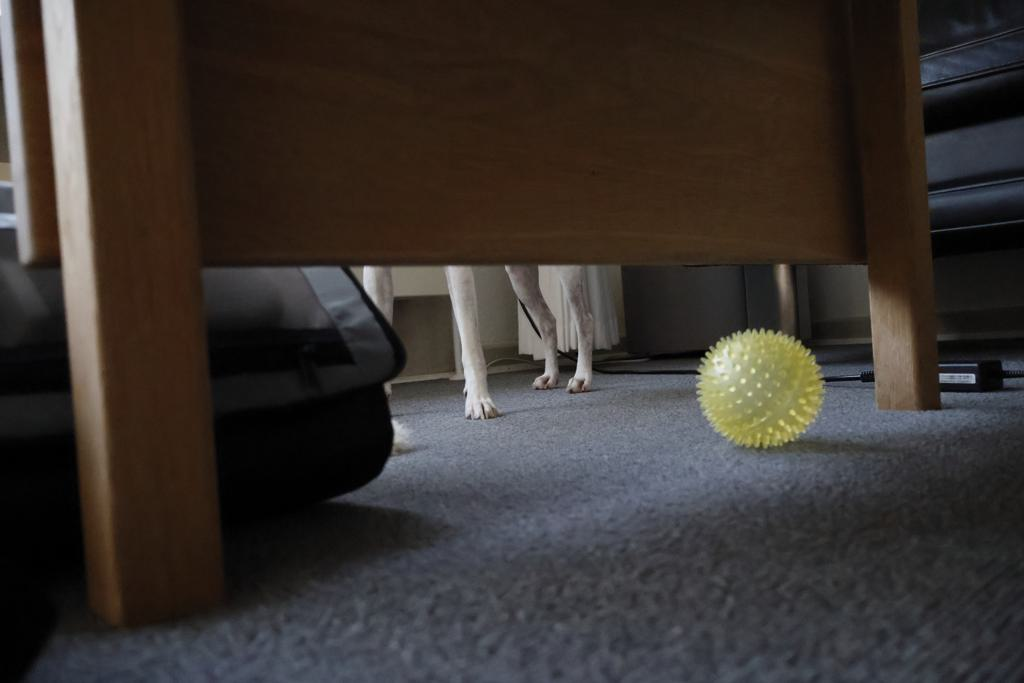Dog: (358, 261, 600, 424)
